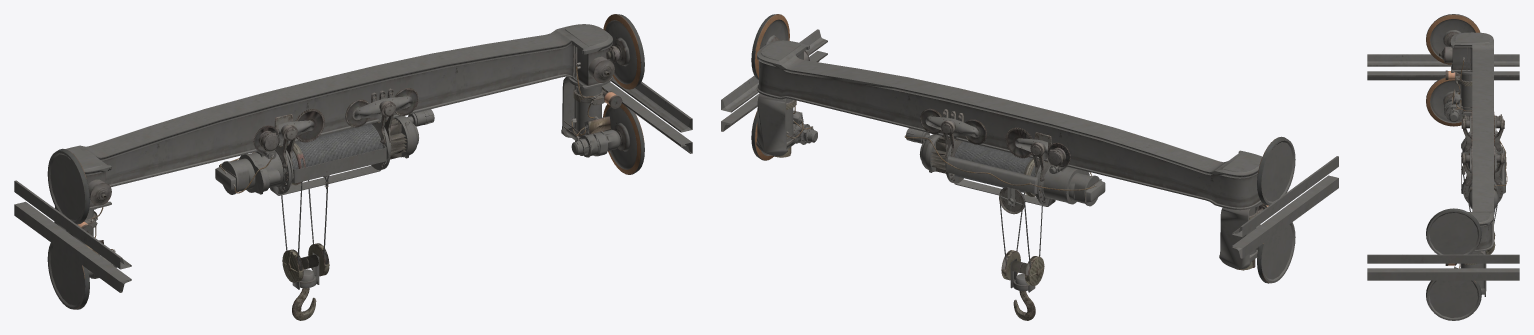
The model's file is overhead_crane.glb.
3 renders of one model, left to right at view 1: azimuth 30°, elevation 25°; view 2: azimuth 150°, elevation 25°; view 3: azimuth 270°, elevation 25°, orthographic. The views are drawn at different scales.
Parts seen in each view (by area): view 1: overhead_crane_rails, overhead_crane_winch; view 2: overhead_crane_rails, overhead_crane_winch; view 3: overhead_crane_rails, overhead_crane_winch.
Boxes of the visible parts, x1,y1,x2,y2 form: overhead_crane_rails: (14,20,692,309); overhead_crane_winch: (56,14,644,320); overhead_crane_rails: (721,19,1338,292); overhead_crane_winch: (751,14,1287,320); overhead_crane_rails: (1367,19,1519,320); overhead_crane_winch: (1426,14,1506,308).
Bounding box in the file's own units: 12.49 × 5.13 × 4.
2 materials, 2 textured.
